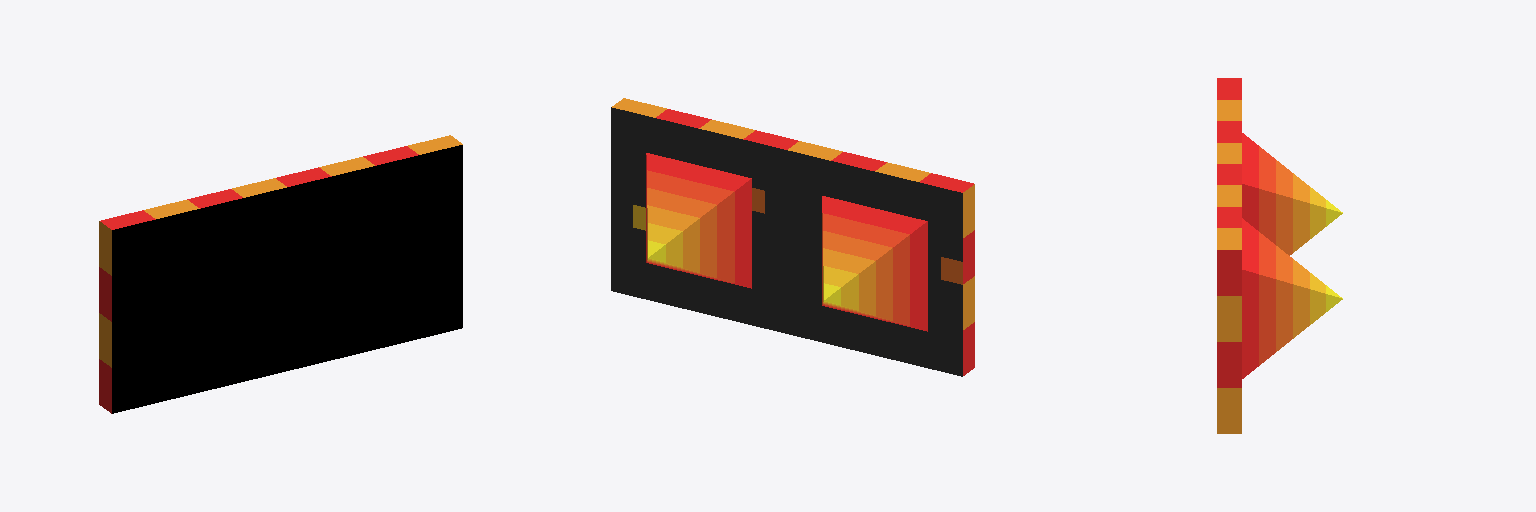
3 views of the same model, side by side, from view 1: azimuth 30°, elevation 25°; view 2: azimuth 150°, elevation 25°; view 3: azimuth 270°, elevation 25° (orthographic).
Visible parts, largest first — view 1: Base; view 2: Base, Spike1.002, Spike1; view 3: Base, Spike1, Spike1.002.
Part boxes in pixels (x1,y1,x2,y2): Base: (99, 135, 462, 413); Base: (611, 98, 974, 376); Spike1.002: (822, 196, 927, 331); Spike1: (646, 153, 751, 288); Base: (1217, 78, 1241, 433); Spike1: (1242, 218, 1342, 378); Spike1.002: (1242, 133, 1342, 255).
Bounding box in the file's own units: 1.6 × 0.8 × 0.5.
Materials: 1 (1 with a texture image).